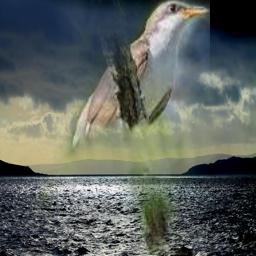Cuckoo: (23, 0, 210, 255)
